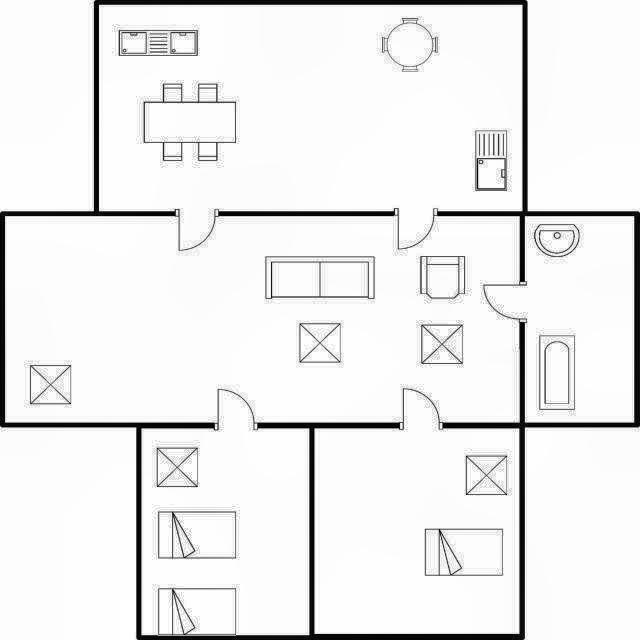room: (5, 216, 520, 423), (99, 4, 523, 211), (314, 428, 519, 634), (141, 428, 309, 635), (525, 216, 634, 423)
